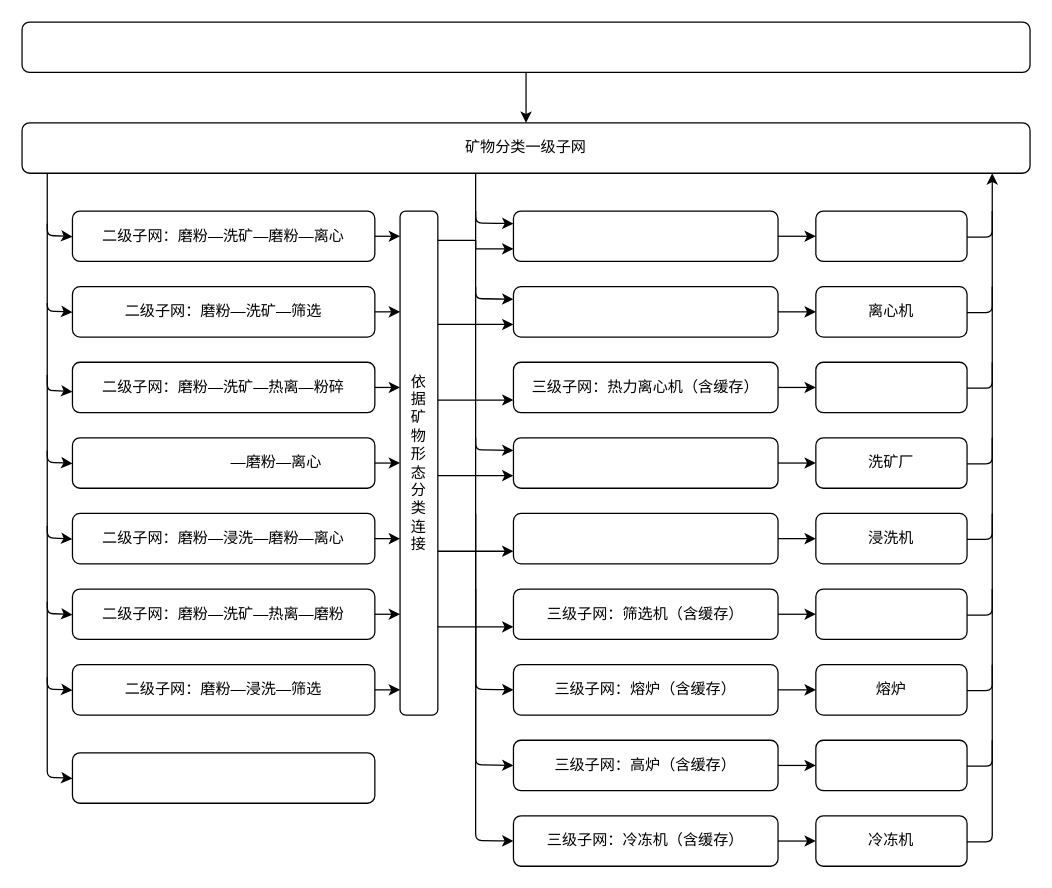
Some shapes in this 1052 by 888 pixel diagram are drawn without their labels. Here are the shapes that lost their labels. From the top down, the box of each, then its label:
(21, 21, 1030, 72): 采矿输入
(512, 210, 778, 261): 三级子网：磨粉机（含缓存）
(815, 210, 967, 261): 磨粉机
(512, 285, 778, 337): 三级子网：离心机（含缓存）
(815, 361, 967, 413): 热力离心机
(512, 437, 778, 488): 三级子网：洗矿厂（含缓存）
(512, 512, 778, 564): 三级子网：浸洗机（含缓存）
(815, 588, 967, 639): 筛选机
(71, 752, 375, 803): 主网输出
(815, 739, 967, 791): 高炉
